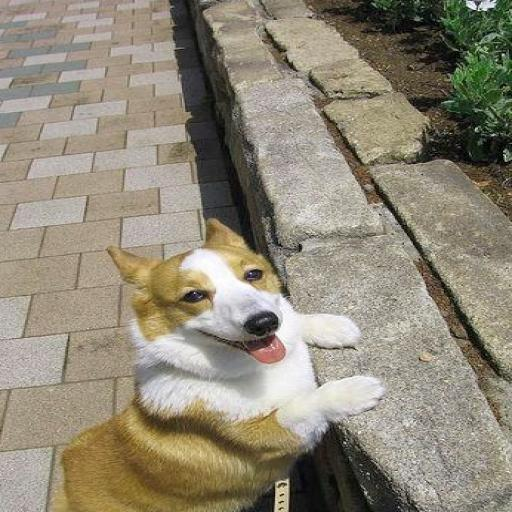dog_face: (109, 225, 301, 362)
